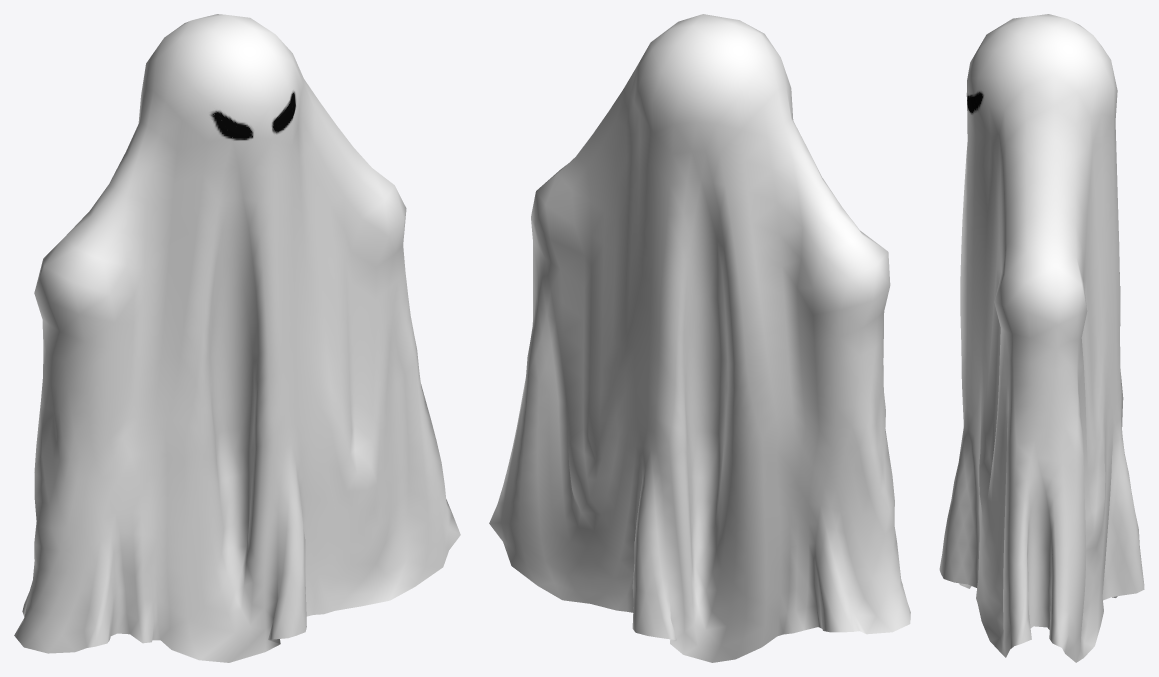
File: ghost2.obj
3 views of the same model, side by side, from view 1: azimuth 30°, elevation 25°; view 2: azimuth 150°, elevation 25°; view 3: azimuth 270°, elevation 25° (orthographic). The views are drawn at different scales.
Visible parts, largest first — view 1: Plane.001; view 2: Plane.001; view 3: Plane.001.
Part boxes in pixels (box(x1,y1,x2,y2)): Plane.001: box(14, 14, 460, 662); Plane.001: box(489, 14, 910, 662); Plane.001: box(939, 14, 1144, 662).
Bounding box in the file's own units: 4.97 × 7.01 × 2.21.
1 material, 1 textured.
